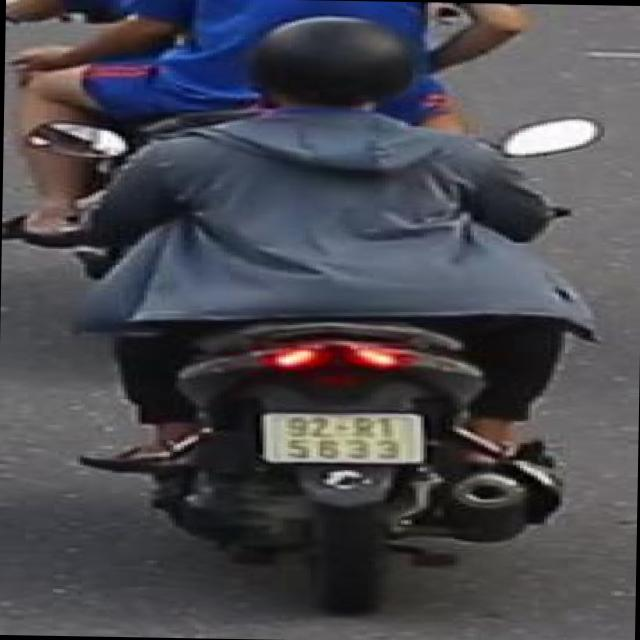LP: (253, 406, 429, 471)
helmet: (240, 5, 428, 146)
